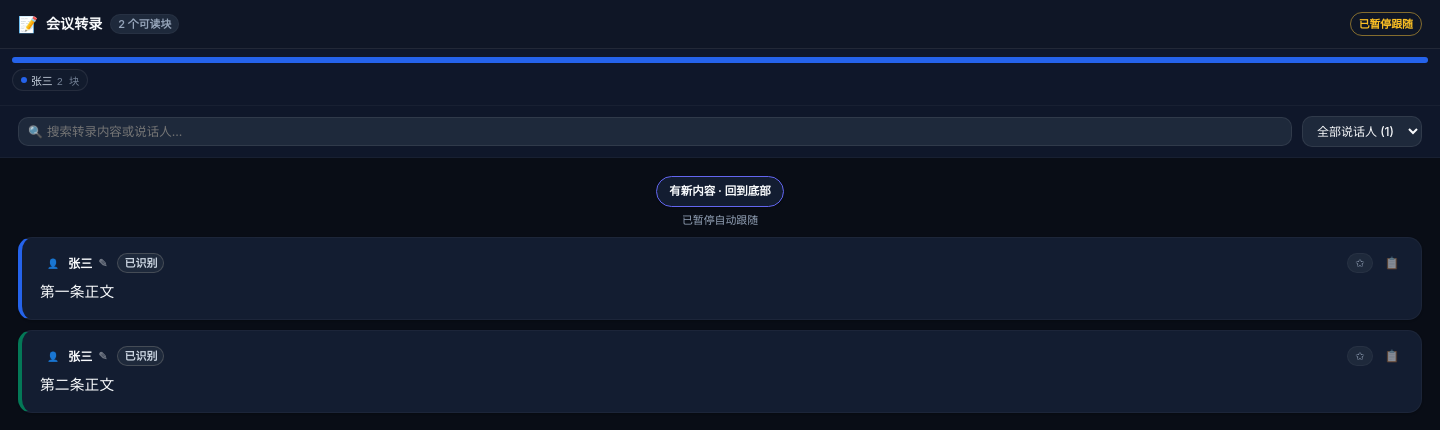
Test: Meeting React Components DOM Rendering › pauses auto-follow when the reader scrolls up and offers a return action
Click the button with class "transcript-new-content" at (720, 192), box [656,176,784,207]
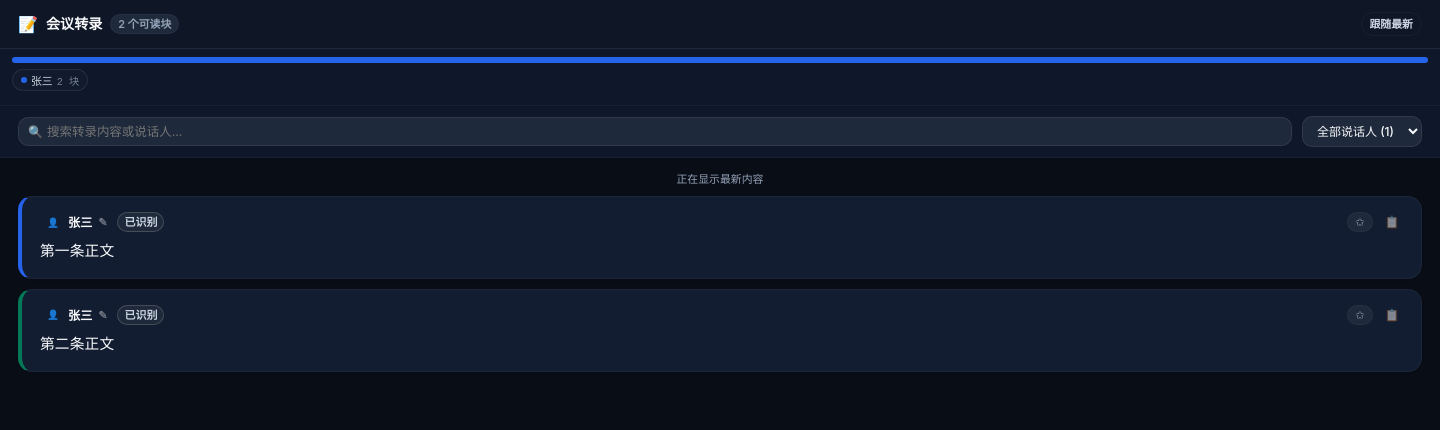
Expected: the text "跟随最新" is shown, [1360,12,1422,36]
